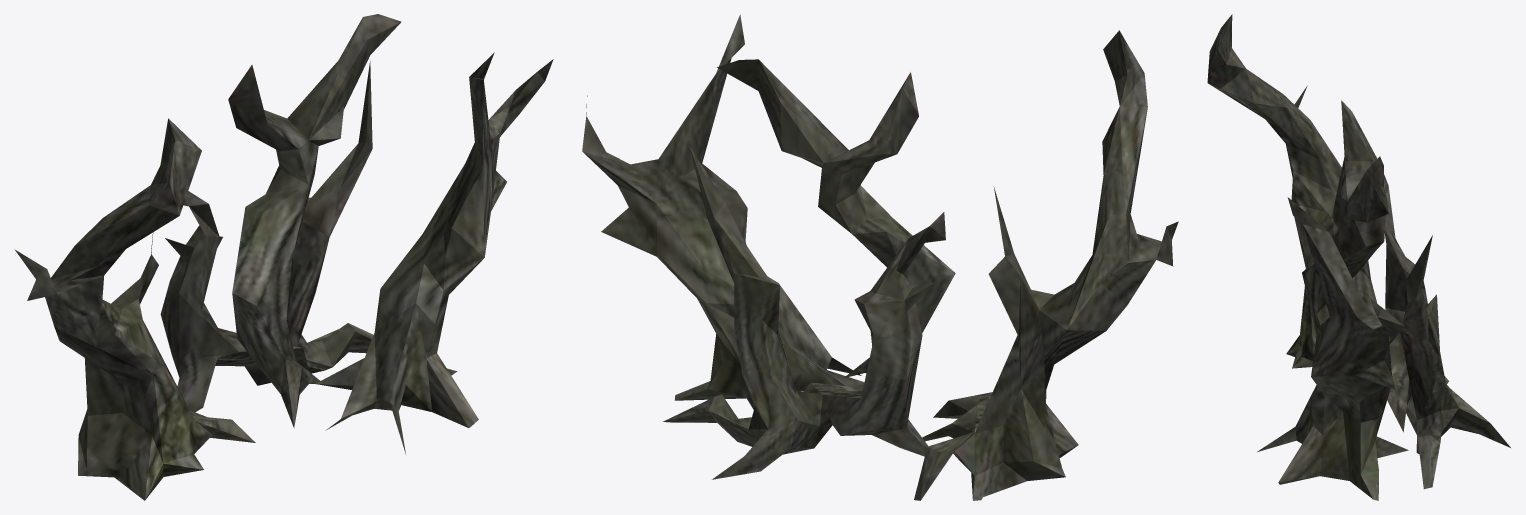
File: world-cursedtree-twigs.glb
The picture shows the model from 3 angles, left to right: view 1: azimuth 30°, elevation 25°; view 2: azimuth 150°, elevation 25°; view 3: azimuth 270°, elevation 25°; orthographic projection. The views are drawn at different scales.
Parts seen in each view (by area): view 1: output_unwrapped; view 2: output_unwrapped; view 3: output_unwrapped.
Boxes of the visible parts, box(x1,y1,x2,y2) form: output_unwrapped: box(14, 14, 553, 500); output_unwrapped: box(582, 14, 1178, 500); output_unwrapped: box(1207, 14, 1510, 500).
Size of the model in its own units: 3.21 by 2.2 by 1.78.
1 material, 1 textured.
